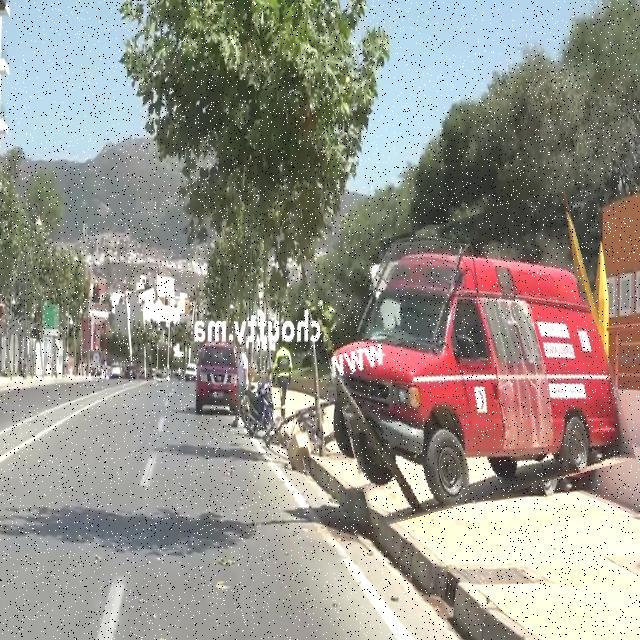ambulance: (317, 206, 620, 513)
